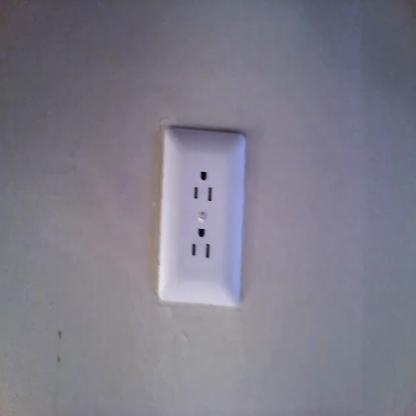OUTLET: (159, 132, 245, 303)
